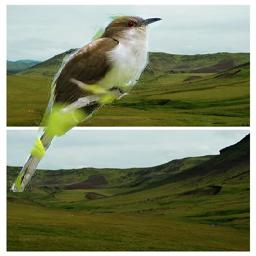Cuckoo: (10, 14, 162, 193)
